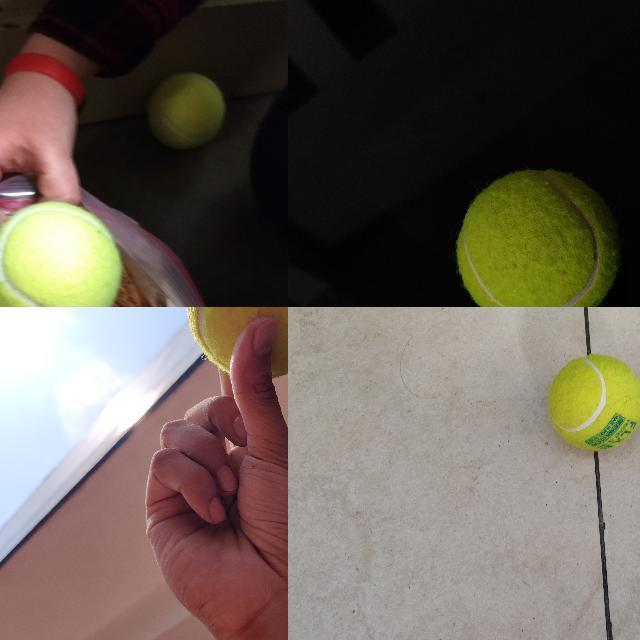tennis-ball: (455, 168, 620, 306), (0, 202, 123, 306), (547, 353, 639, 451), (186, 307, 287, 380), (145, 72, 225, 152)
